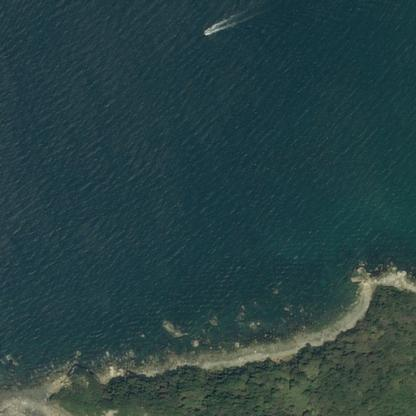ship: (37, 30, 42, 34)
